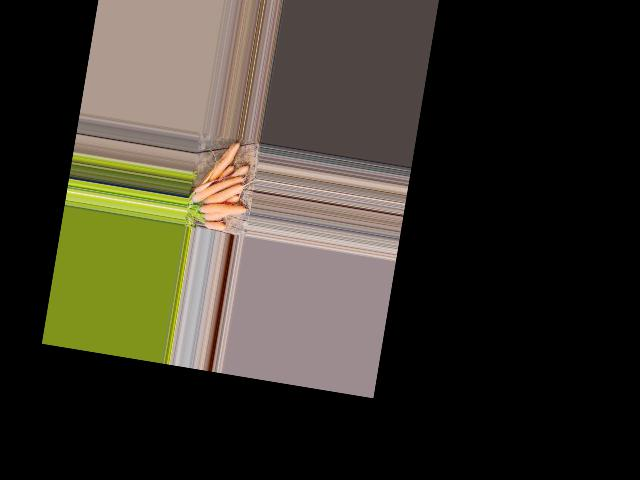carrot: (208, 140, 241, 185)
